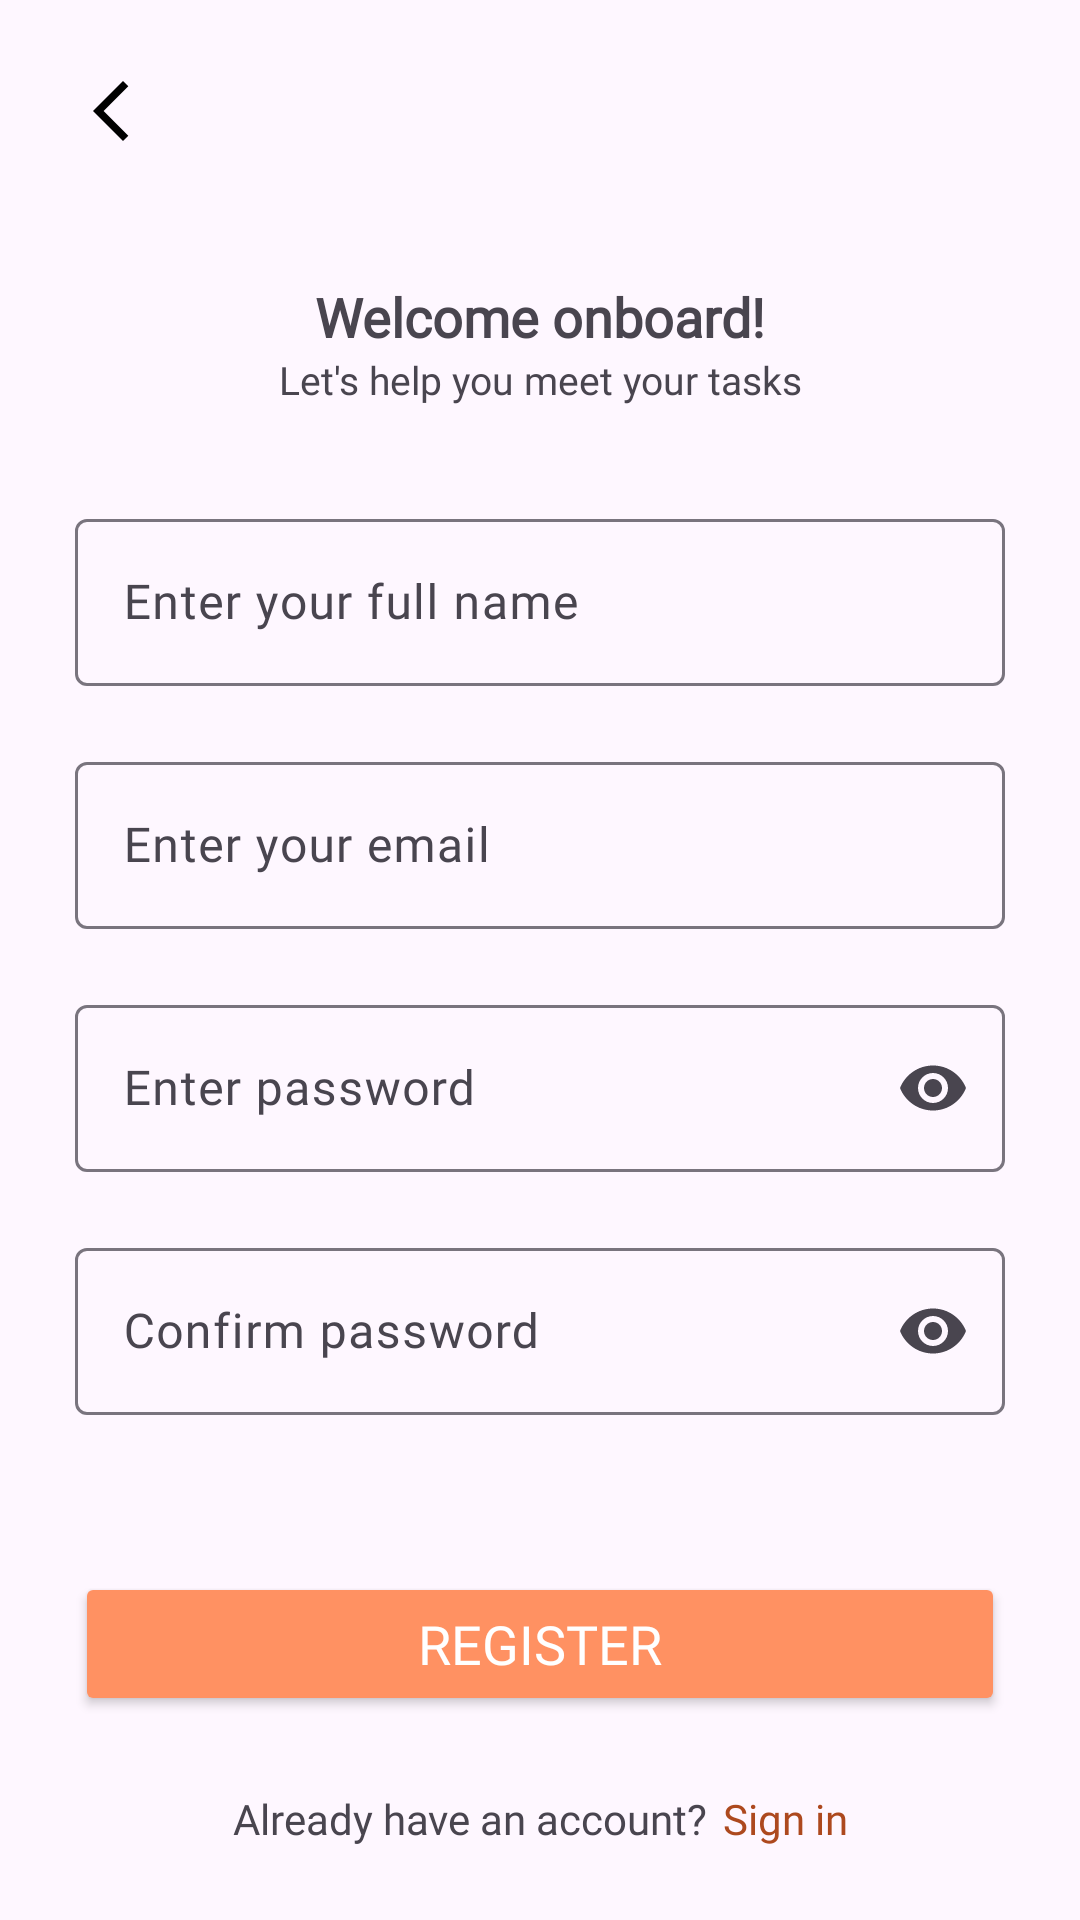

Named icons in this screenshot (1080w x 1920h) and their centers, (x=x, y=y):
back: (x=110, y=111)
